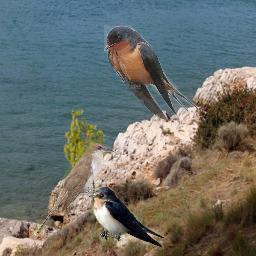Cuckoo: (35, 143, 115, 236)
Swallow: (104, 25, 198, 120), (88, 185, 165, 250)
